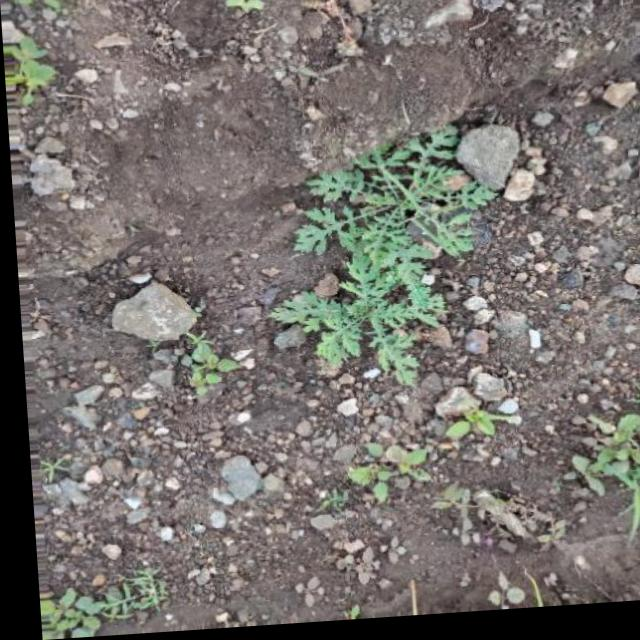weed: (258, 130, 501, 391), (31, 568, 159, 640)
